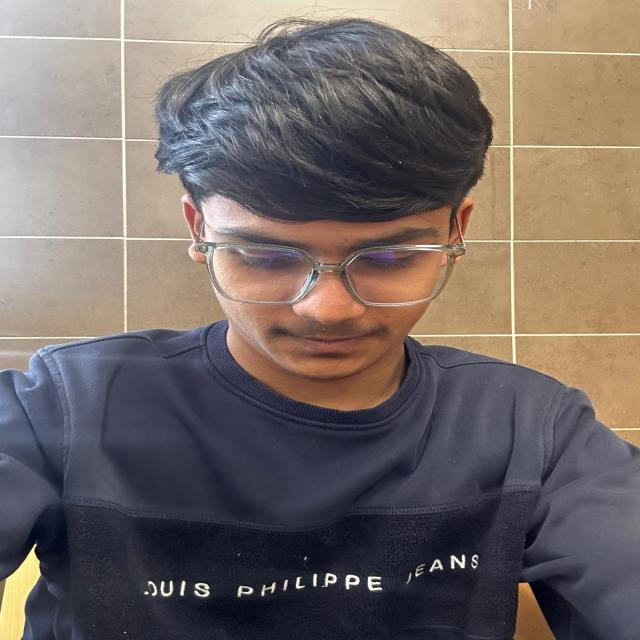nocap: (136, 12, 506, 224)
